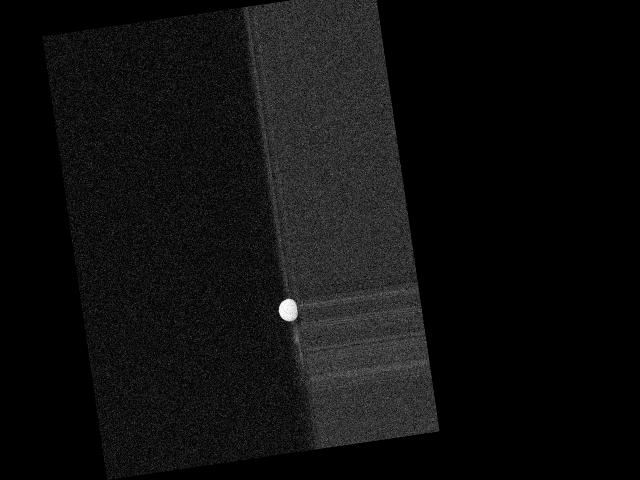egg: (277, 298, 299, 323)
